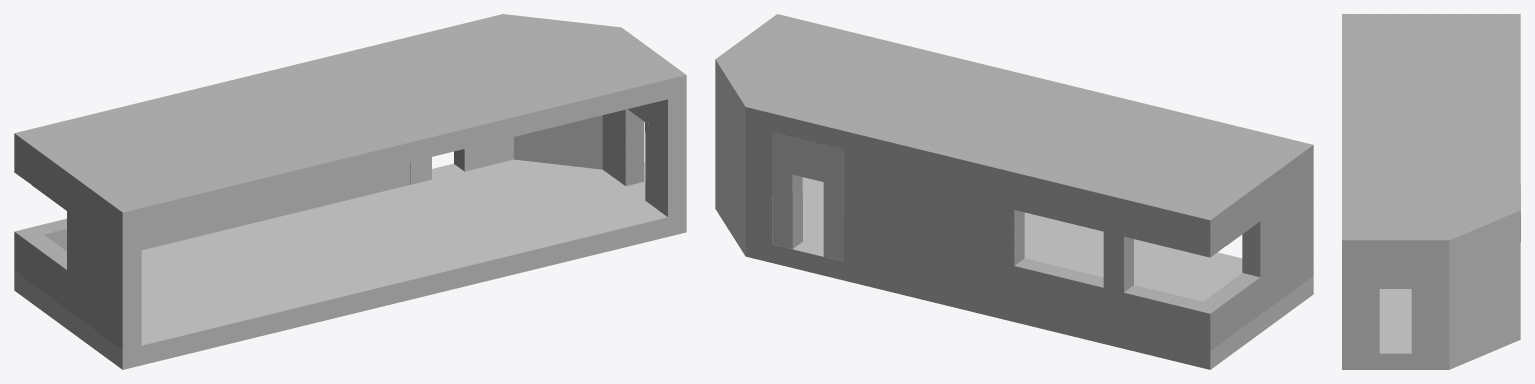
File: Hallway Structure.fbx
3 renders of one model, left to right at view 1: azimuth 30°, elevation 25°; view 2: azimuth 150°, elevation 25°; view 3: azimuth 270°, elevation 25°, orthographic. The views are drawn at different scales.
Parts seen in each view (by area): view 1: mtr_wall_2 Mesh (1), normalfloor-1 Mesh (1), Wall Mesh (1), normalwall-1 Mesh (1); view 2: mtr_wall_2 Mesh (1), normalwall-1 Mesh (1), normalfloor-1 Mesh (1), Wall Mesh (1); view 3: mtr_wall_2 Mesh (1), normalwall-1 Mesh (1), Wall Mesh (1), normalfloor-1 Mesh (1).
Part boxes in pixels (x1,y1,x2,y2): mtr_wall_2 Mesh (1): [14, 14, 685, 349]; normalfloor-1 Mesh (1): [141, 159, 667, 345]; Wall Mesh (1): [14, 75, 686, 369]; normalwall-1 Mesh (1): [44, 99, 667, 251]; mtr_wall_2 Mesh (1): [715, 14, 1313, 369]; normalwall-1 Mesh (1): [715, 78, 843, 261]; normalfloor-1 Mesh (1): [774, 177, 1242, 301]; Wall Mesh (1): [715, 59, 1313, 369]; mtr_wall_2 Mesh (1): [1342, 14, 1520, 241]; normalwall-1 Mesh (1): [1342, 226, 1520, 369]; Wall Mesh (1): [1342, 210, 1520, 256]; normalfloor-1 Mesh (1): [1379, 289, 1411, 353].
Size of what is drawn, in the model's own units: 30.01 by 8 by 10.01.
